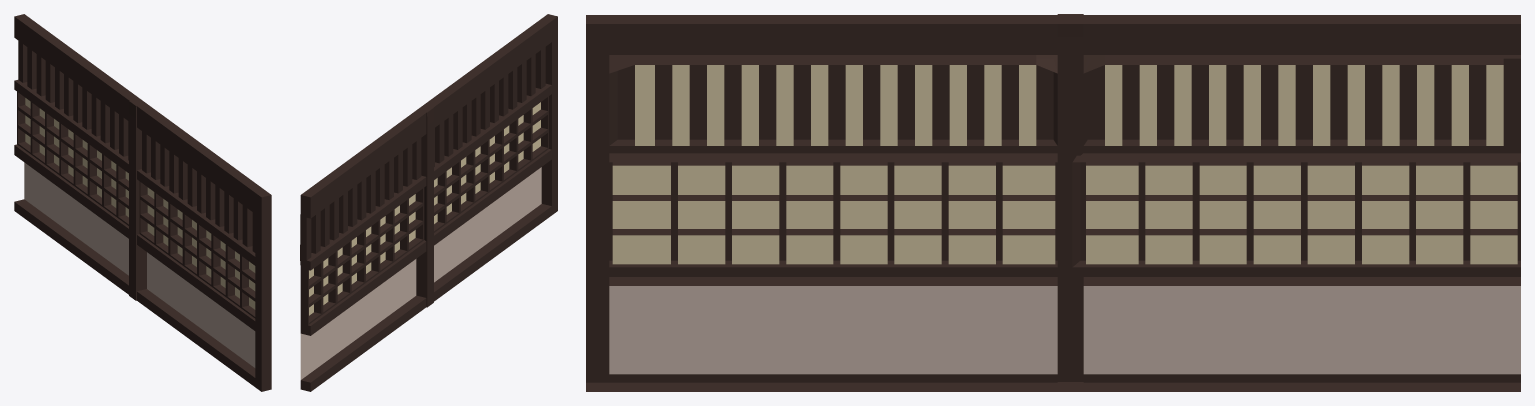
Rendered from set_2_wall_R.glb.
The picture shows the model from 3 angles, left to right: view 1: azimuth 30°, elevation 25°; view 2: azimuth 150°, elevation 25°; view 3: azimuth 270°, elevation 25°; orthographic projection. The views are drawn at different scales.
Parts seen in each view (by area): view 1: RightWall2; view 2: RightWall2; view 3: RightWall2.
Part boxes in pixels (x1,y1,x2,y2): RightWall2: (14, 14, 271, 391); RightWall2: (300, 14, 557, 391); RightWall2: (586, 14, 1520, 391).
Size of the model in its own units: 0.2964 by 4.73 by 10.9.
